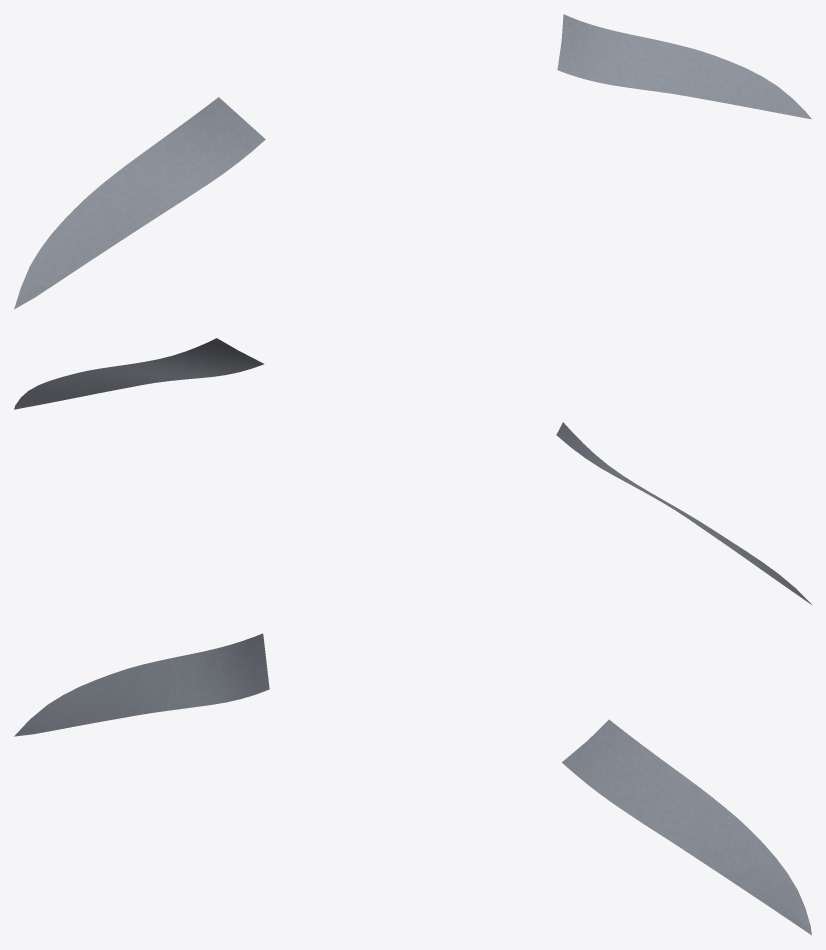
The model's file is Jac_Flic_TOP_V2.glb.
The picture shows the model from 3 angles, top to bottom: view 1: azimuth 30°, elevation 25°; view 2: azimuth 150°, elevation 25°; view 3: azimuth 330°, elevation 25°; orthographic projection.
Visible parts, largest first — view 1: Jac_Flic_TOP.003; view 2: Jac_Flic_TOP.003; view 3: Jac_Flic_TOP.003.
Part boxes in pixels (x1,y1,x2,y2): Jac_Flic_TOP.003: [14, 14, 811, 309]; Jac_Flic_TOP.003: [14, 338, 811, 604]; Jac_Flic_TOP.003: [14, 633, 811, 935].
Size of the model in its own units: 0.6472 by 0.1119 by 0.0396.
Materials: 1 (1 with a texture image).
